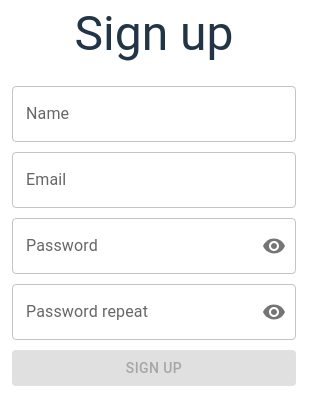
Scenario: Sign up page › Interactions › Enable the button when password and password repeat fields have same value
Type "password" into the password field with placeholder "Enter you password" at (129, 246), box [12,218,246,274]
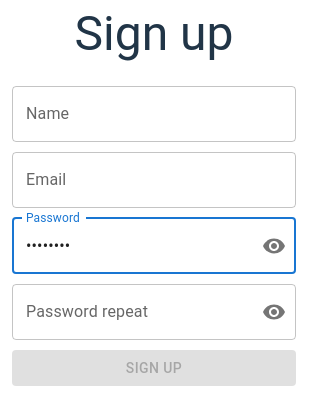
Type "password" into the password field with placeholder "Repeat your password" at (129, 312), box [12,284,246,340]
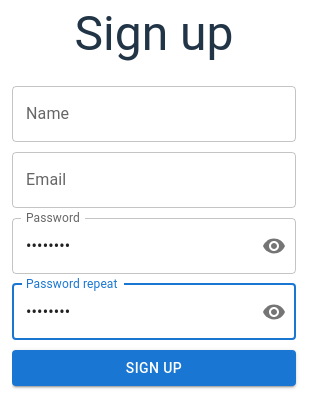
Check: the button "Sign Up" is enabled, box [12,350,296,386]
